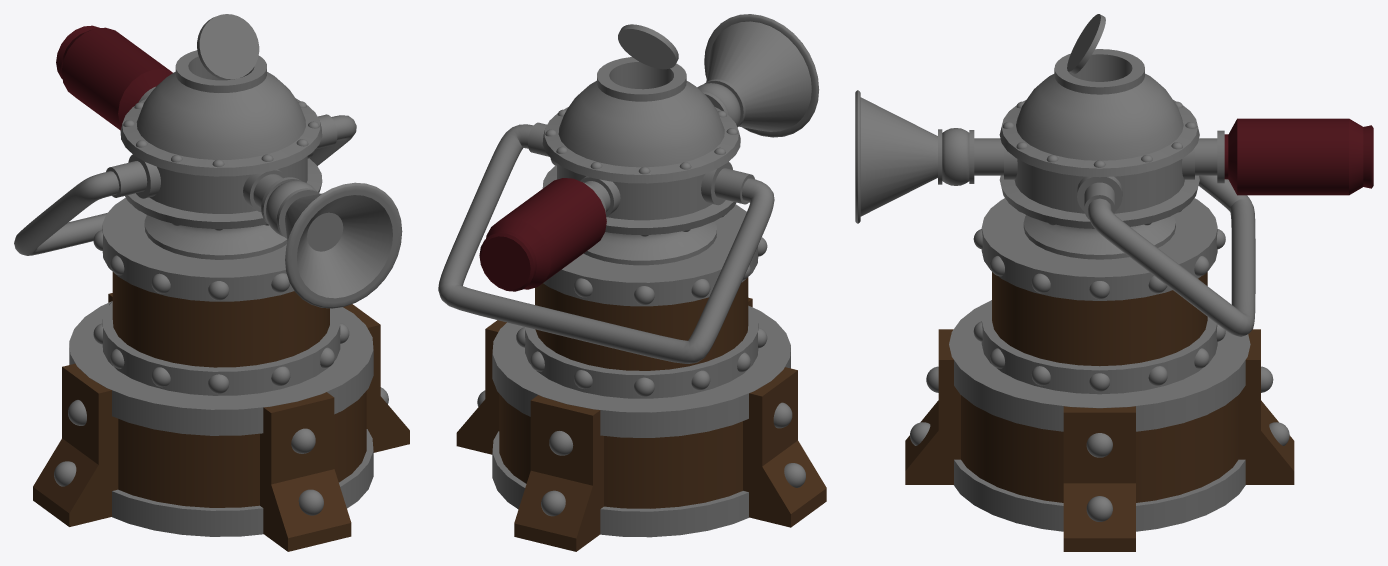
Rendered from Fire_Turret.fbx.
3 views of the same model, side by side, from view 1: azimuth 30°, elevation 25°; view 2: azimuth 150°, elevation 25°; view 3: azimuth 270°, elevation 25° (orthographic).
Visible parts, largest first — view 1: Base.004, Caldeira, Pes.002, Cano, Ferro.001, Gas, Tampa, Pregos2, Pregos3, Pregos1; view 2: Base.004, Caldeira, Pes.002, Ferro.001, Cano, Gas, Pregos2, Pregos3, Tampa, Pregos1; view 3: Base.004, Caldeira, Pes.002, Ferro.001, Gas, Cano, Pregos2, Pregos3, Tampa, Pregos1.
Part boxes in pixels (bbox=[...]): Base.004: bbox=[69, 197, 373, 536]; Caldeira: bbox=[120, 50, 322, 259]; Pes.002: bbox=[33, 293, 409, 551]; Cano: bbox=[243, 169, 402, 308]; Ferro.001: bbox=[14, 86, 356, 255]; Gas: bbox=[56, 25, 172, 130]; Tampa: bbox=[197, 14, 259, 79]; Pregos2: bbox=[93, 230, 349, 393]; Pregos3: bbox=[54, 387, 388, 515]; Pregos1: bbox=[123, 101, 319, 230]; Base.004: bbox=[492, 204, 790, 537]; Caldeira: bbox=[542, 57, 740, 265]; Pes.002: bbox=[456, 297, 826, 551]; Ferro.001: bbox=[438, 122, 774, 363]; Cano: bbox=[697, 14, 819, 137]; Gas: bbox=[479, 178, 606, 291]; Pregos2: bbox=[516, 237, 767, 396]; Pregos3: bbox=[477, 390, 805, 516]; Tampa: bbox=[618, 24, 678, 69]; Pregos1: bbox=[545, 109, 737, 236]; Base.004: bbox=[949, 198, 1250, 531]; Caldeira: bbox=[999, 49, 1199, 259]; Pes.002: bbox=[905, 329, 1294, 551]; Ferro.001: bbox=[1077, 130, 1255, 336]; Gas: bbox=[1224, 118, 1373, 195]; Cano: bbox=[855, 90, 1017, 223]; Pregos2: bbox=[973, 229, 1225, 391]; Pregos3: bbox=[910, 366, 1289, 521]; Tampa: bbox=[1067, 14, 1105, 74]; Pregos1: bbox=[1002, 101, 1196, 225].
Size of the model in its own units: 186 by 239 by 248.
